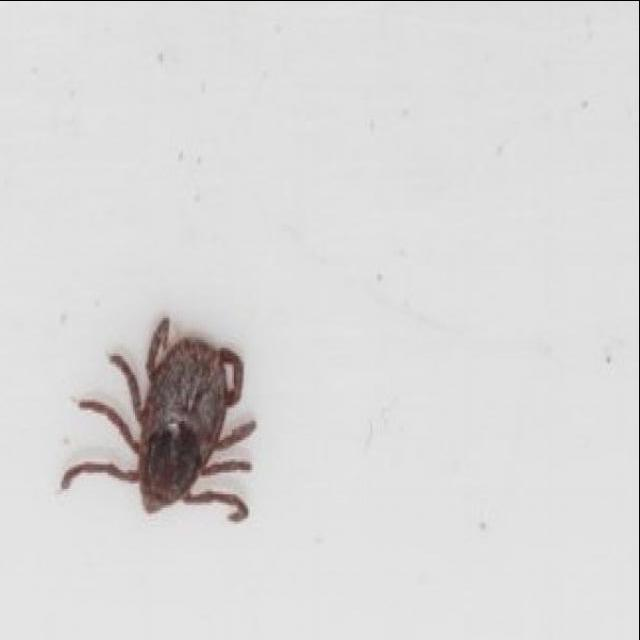Rhipicephalus Sanguineus-F: (61, 312, 257, 523)
